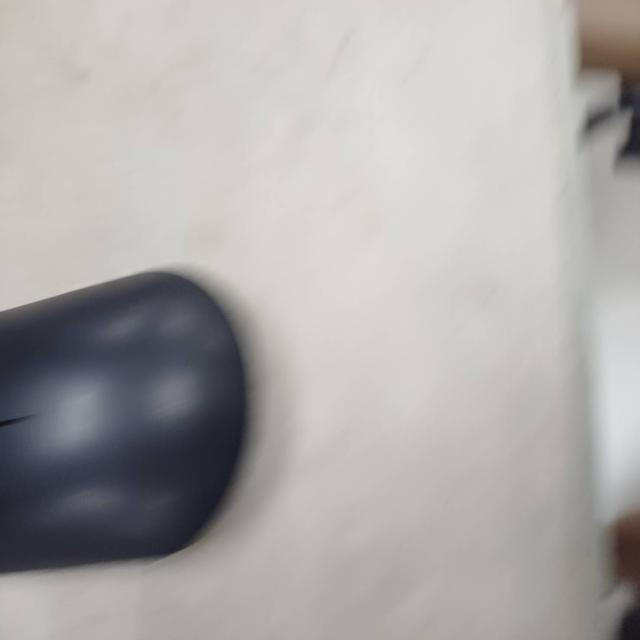mouse: (0, 265, 251, 582)
